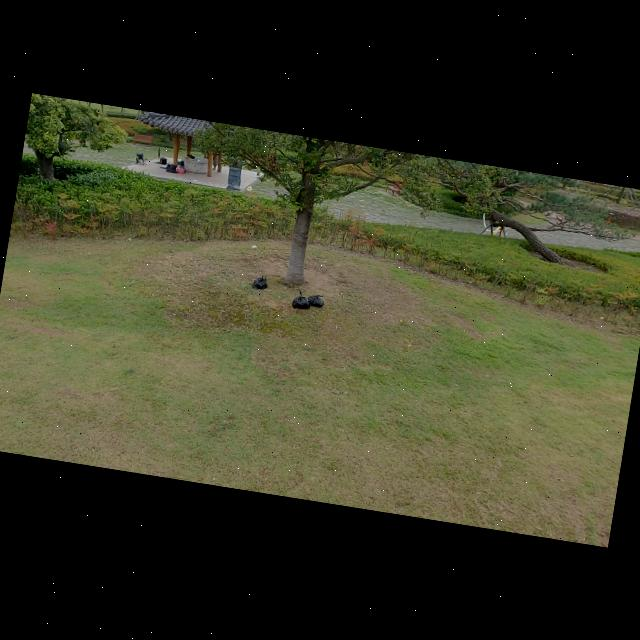trash: (290, 285, 314, 313), (250, 272, 272, 294), (305, 291, 325, 311)
